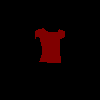t-shirt: (35, 28, 65, 63)
